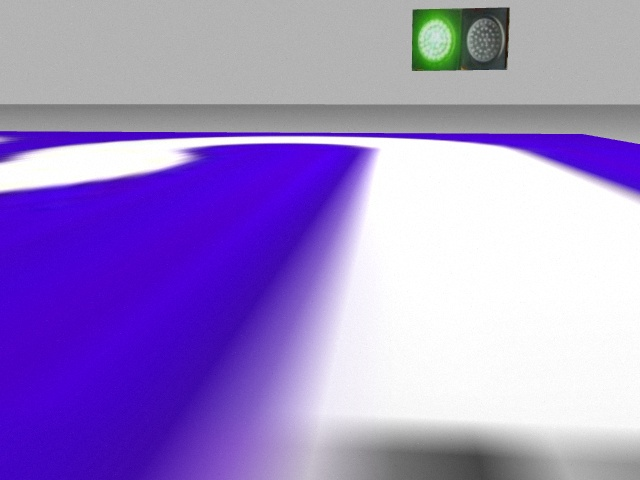green: (411, 9, 461, 70)
